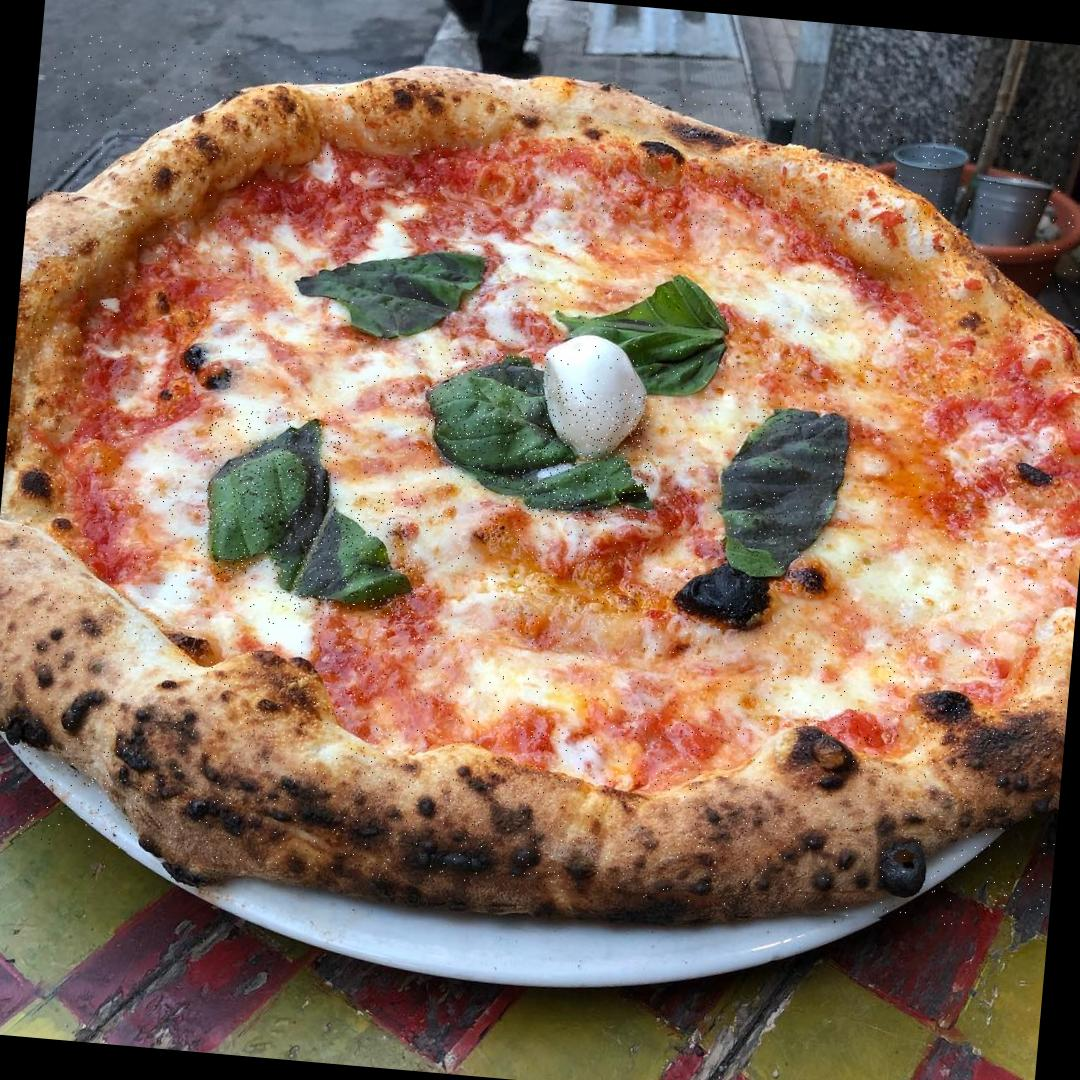Basil: (720, 393, 860, 600), (194, 402, 344, 586), (294, 237, 506, 356), (552, 270, 733, 402), (267, 486, 421, 622), (422, 348, 563, 490), (502, 435, 654, 528)
Cheese: (536, 331, 660, 474)
Pizza: (0, 33, 1080, 934)
